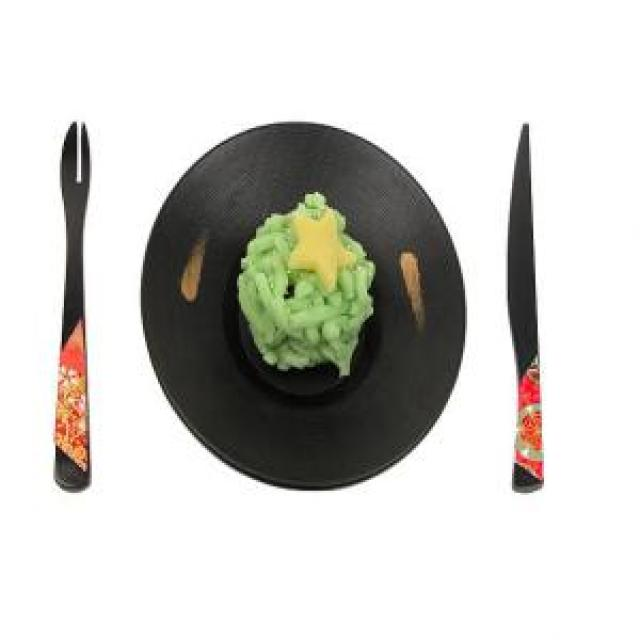knife: (508, 111, 548, 493)
